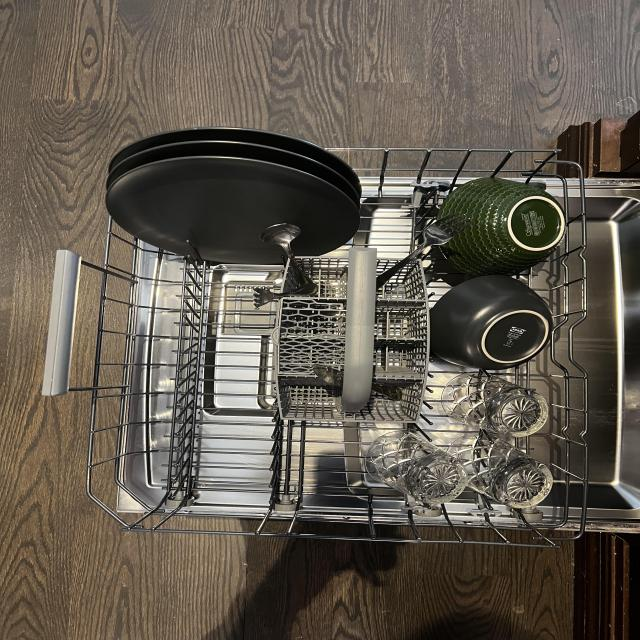Bowl: (435, 176, 567, 277), (430, 276, 558, 370)
Fork: (376, 210, 475, 293), (252, 282, 321, 309)
Knife: (312, 362, 403, 402)
Plate: (102, 154, 363, 265)
Spoon: (448, 432, 554, 509), (366, 428, 468, 506), (441, 369, 553, 439), (257, 221, 315, 290)
